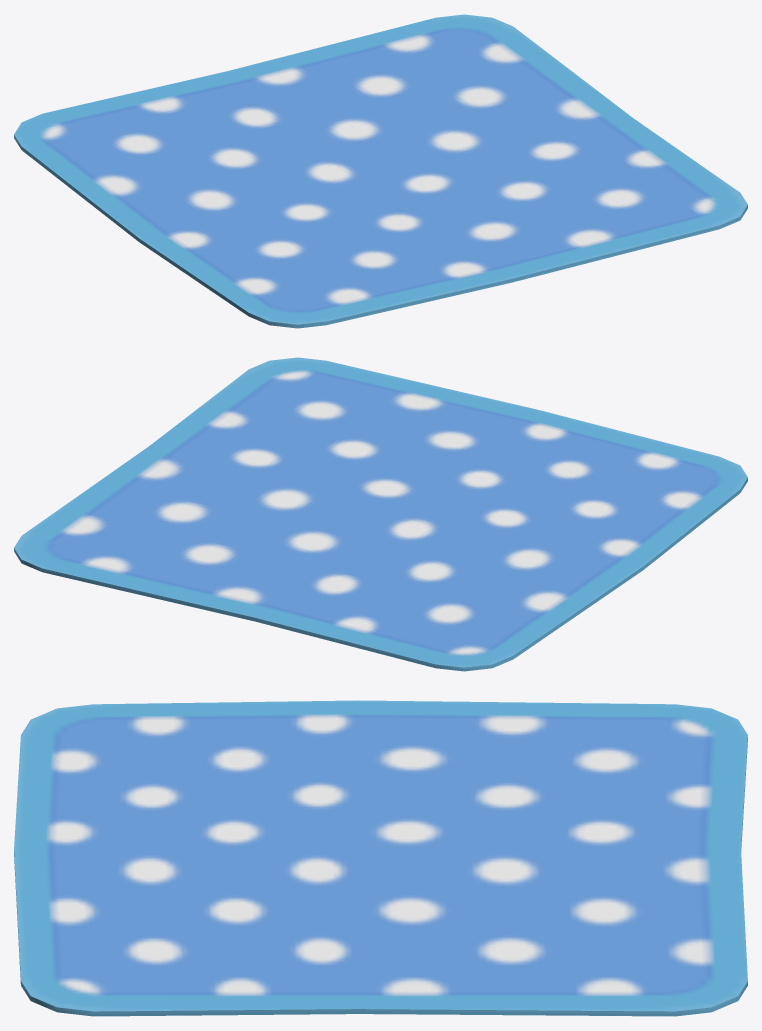
Rendered from set_handtowel_03.fbx.
3 views of the same model, one above another, from view 1: azimuth 30°, elevation 25°; view 2: azimuth 150°, elevation 25°; view 3: azimuth 270°, elevation 25° (orthographic). The views are drawn at different scales.
Visible parts, largest first — view 1: set_handtowel_03; view 2: set_handtowel_03; view 3: set_handtowel_03.
Boxes of the visible parts, x1,y1,x2,y2 form: set_handtowel_03: (14, 14, 747, 328); set_handtowel_03: (14, 357, 747, 671); set_handtowel_03: (14, 700, 747, 1016).
Bounding box in the file's own units: 20.25 × 0.15 × 20.19.
